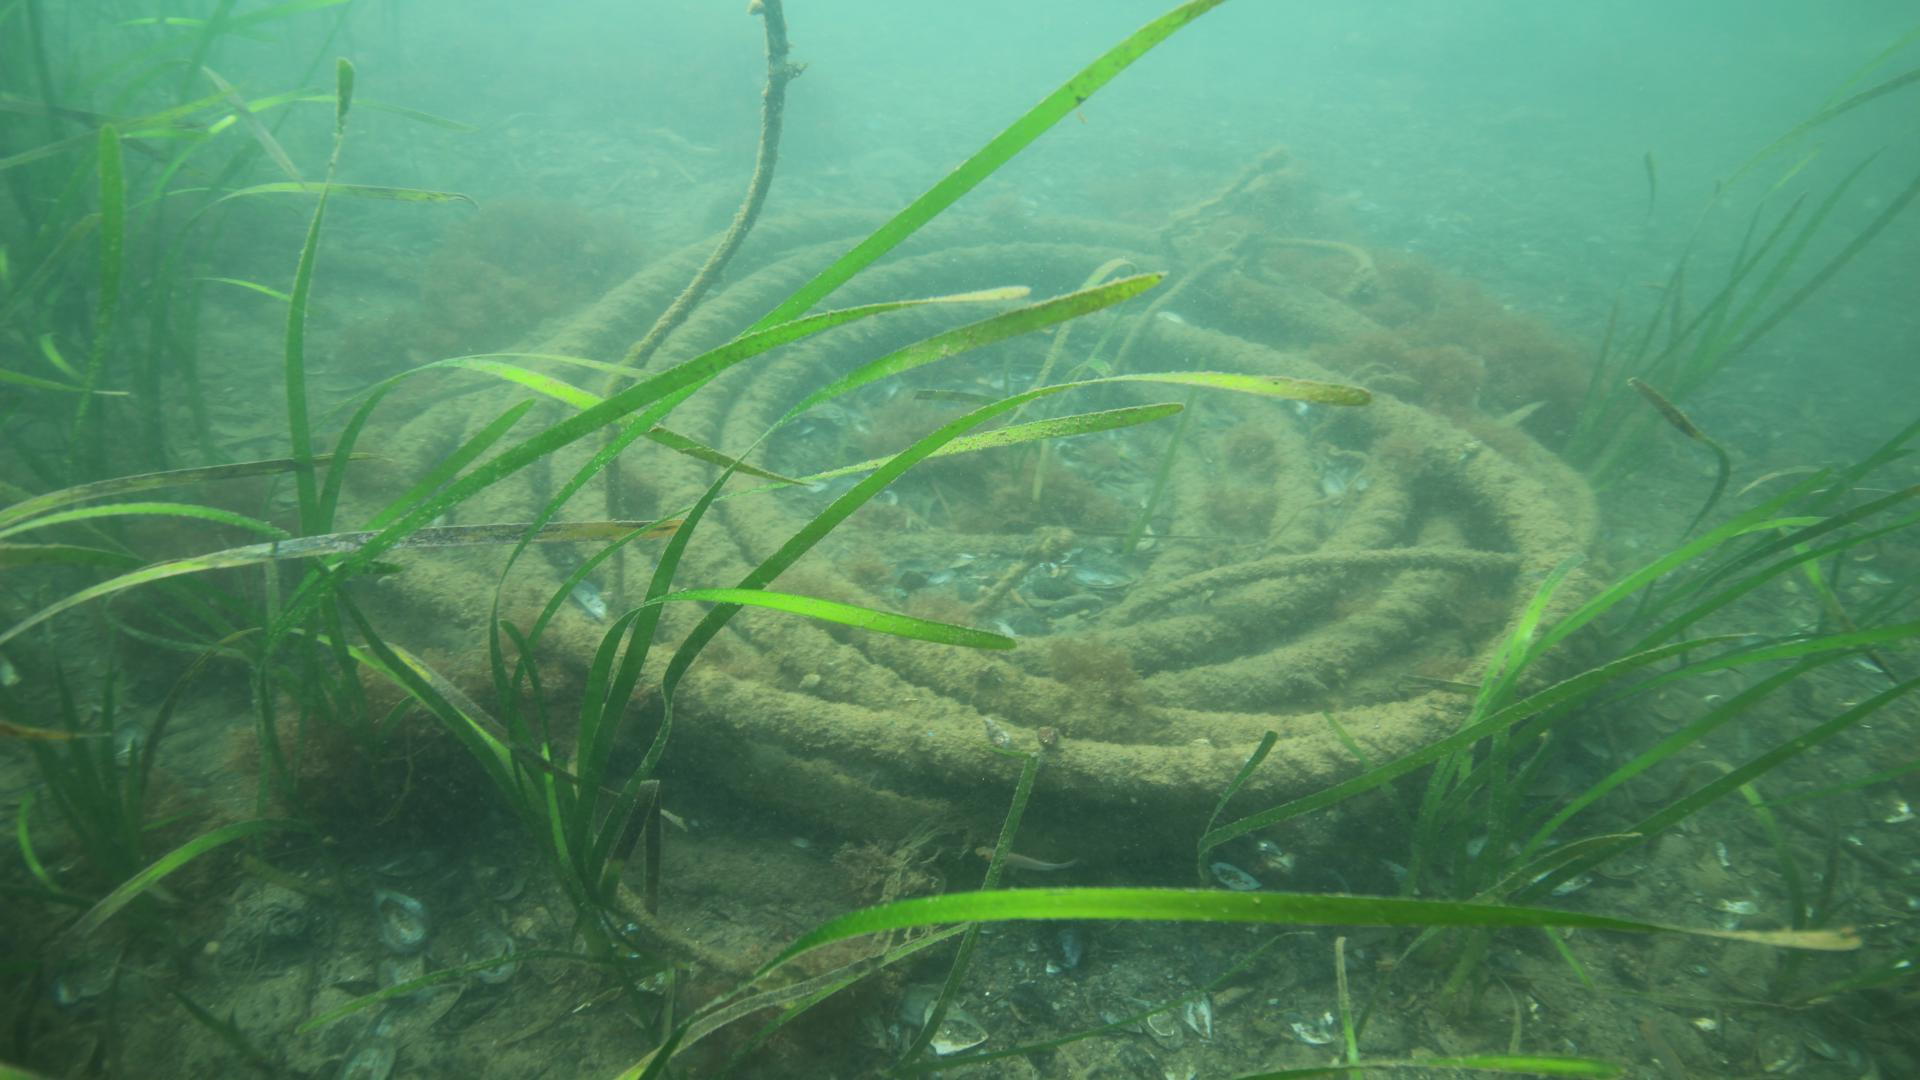bundle of ropes: (330, 204, 1601, 865)
